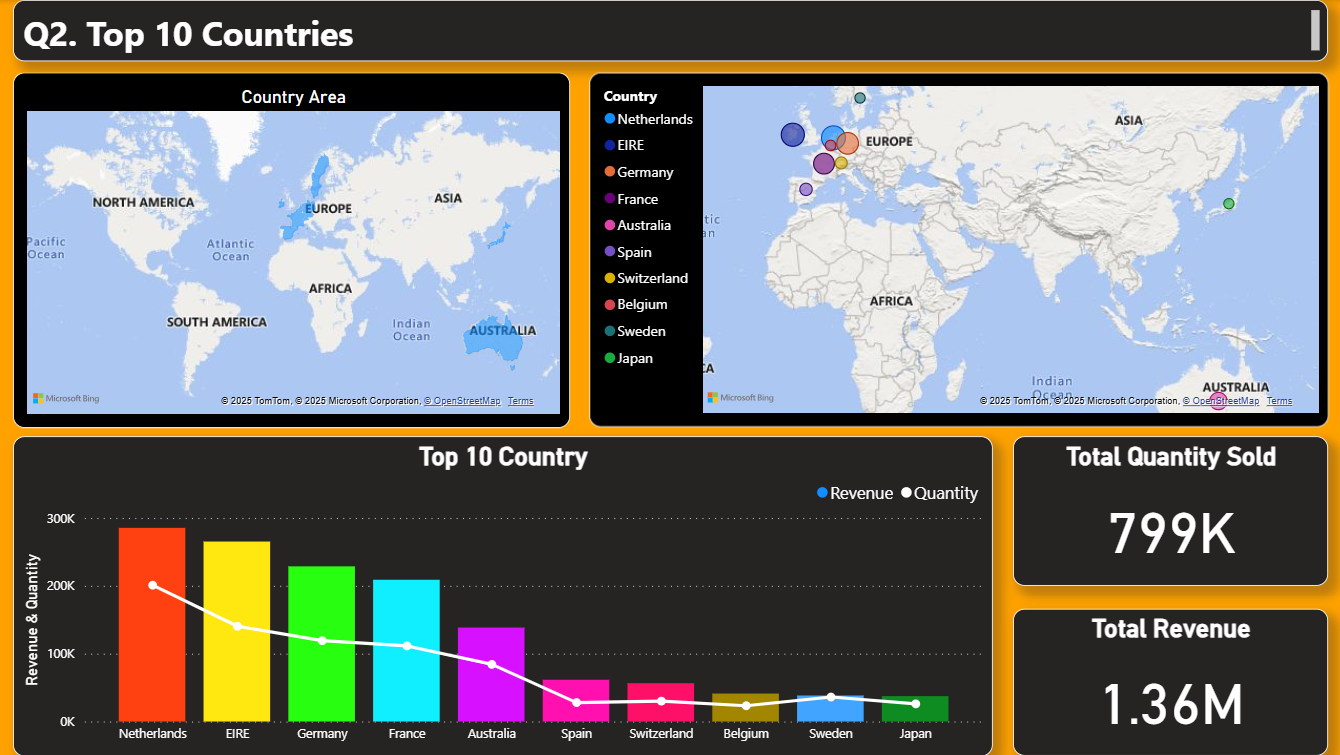

This screenshot's page, from the dashboard's own definition file:
{"tool":"powerbi","page":{"name":"Question 2","canvas":[1280,720],"ordinal":2},"visuals":[{"type":"lineStackedColumnComboChart","title":"Top 10 Country","fields":{"Y2":["Sum(top_10_countries.sum-qyt)"],"Category":["top_10_countries.Country"],"Y":["Sum(top_10_countries.sum-rev)"]},"box":[13.8,415,932.5,305],"z":0},{"type":"textbox","box":[14.3,0,1252,58.3],"z":1000},{"type":"map","fields":{"Category":["top_10_countries.Country"],"Size":["Sum(top_10_countries.sum-rev)"],"Series":["top_10_countries.Country"]},"box":[562.5,68.8,703.8,337.5],"z":2000},{"type":"filledMap","title":"Country Area","fields":{"Category":["top_10_countries.Country"]},"box":[14,69,530,338],"z":3000},{"type":"card","title":"Total Quantity Sold","fields":{"Values":["Sum(top_10_countries.sum-qyt)"]},"box":[966.2,415,300,142.5],"z":4000},{"type":"card","title":"Total Revenue","fields":{"Values":["Sum(top_10_countries.sum-rev)"]},"box":[966.2,580,300,140],"z":5000}]}

Visuals, with their boxes in screenshot pixels (x1, y1, x2, y2), scaled from the page's 1280x720 canvas onto the 1340x755 screenshot:
"Top 10 Country" lineStackedColumnComboChart: 14 435 991 754
textbox: 15 0 1326 61
map - top_10_countries.Country x Sum(top_10_countries.sum-rev): 589 72 1326 426
"Country Area" filledMap: 15 72 570 427
"Total Quantity Sold" card: 1011 435 1326 585
"Total Revenue" card: 1011 608 1326 754
